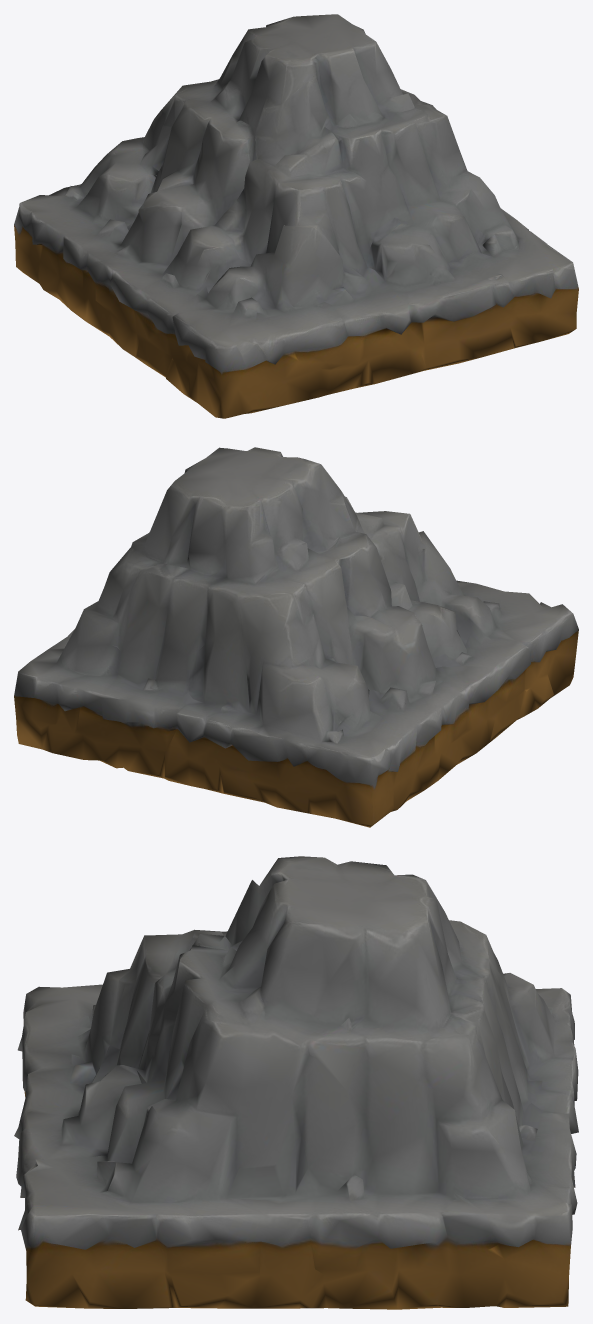
The model's file is mountain_ground_tile.glb.
The picture shows the model from 3 angles, top to bottom: view 1: azimuth 30°, elevation 25°; view 2: azimuth 150°, elevation 25°; view 3: azimuth 270°, elevation 25°; orthographic projection. The views are drawn at different scales.
Parts seen in each view (by area): view 1: tripo_node_3afb1f69-1f9d-442c-a6ba-a8759e78a9a6; view 2: tripo_node_3afb1f69-1f9d-442c-a6ba-a8759e78a9a6; view 3: tripo_node_3afb1f69-1f9d-442c-a6ba-a8759e78a9a6.
Boxes of the visible parts, box(x1,y1,x2,y2) form: tripo_node_3afb1f69-1f9d-442c-a6ba-a8759e78a9a6: box(14, 14, 578, 418); tripo_node_3afb1f69-1f9d-442c-a6ba-a8759e78a9a6: box(14, 447, 578, 827); tripo_node_3afb1f69-1f9d-442c-a6ba-a8759e78a9a6: box(14, 856, 578, 1309).
Size of the model in its own units: 0.9905 by 0.6431 by 1.
Materials: 1 (1 with a texture image).
